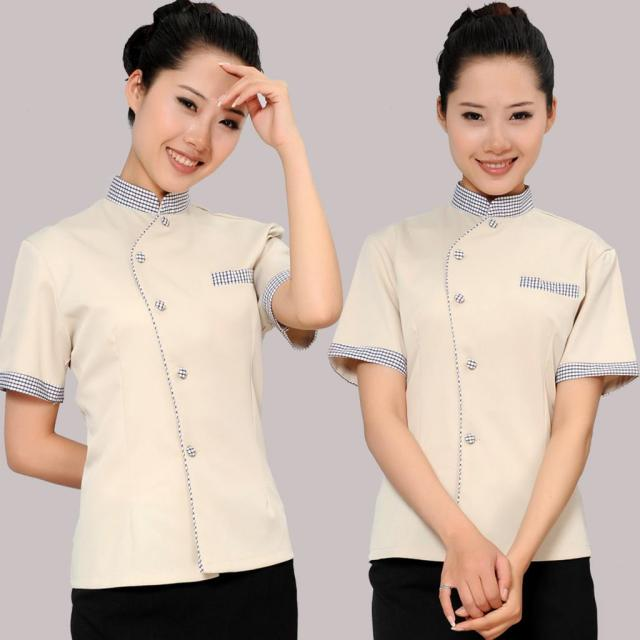nomask: (135, 52, 253, 196), (446, 46, 549, 198)
